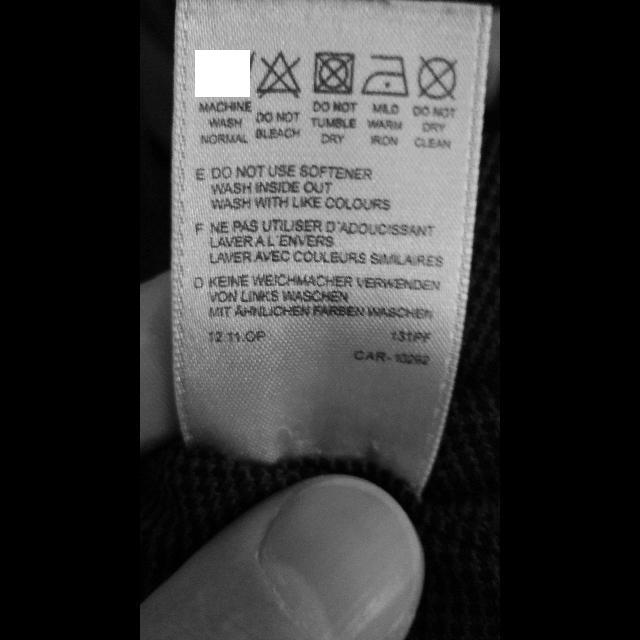DN_bleach: (253, 49, 305, 101)
DN_dry_clean: (416, 53, 459, 101)
DN_tumble_dry: (312, 49, 356, 96)
iron_low: (360, 50, 410, 99)
